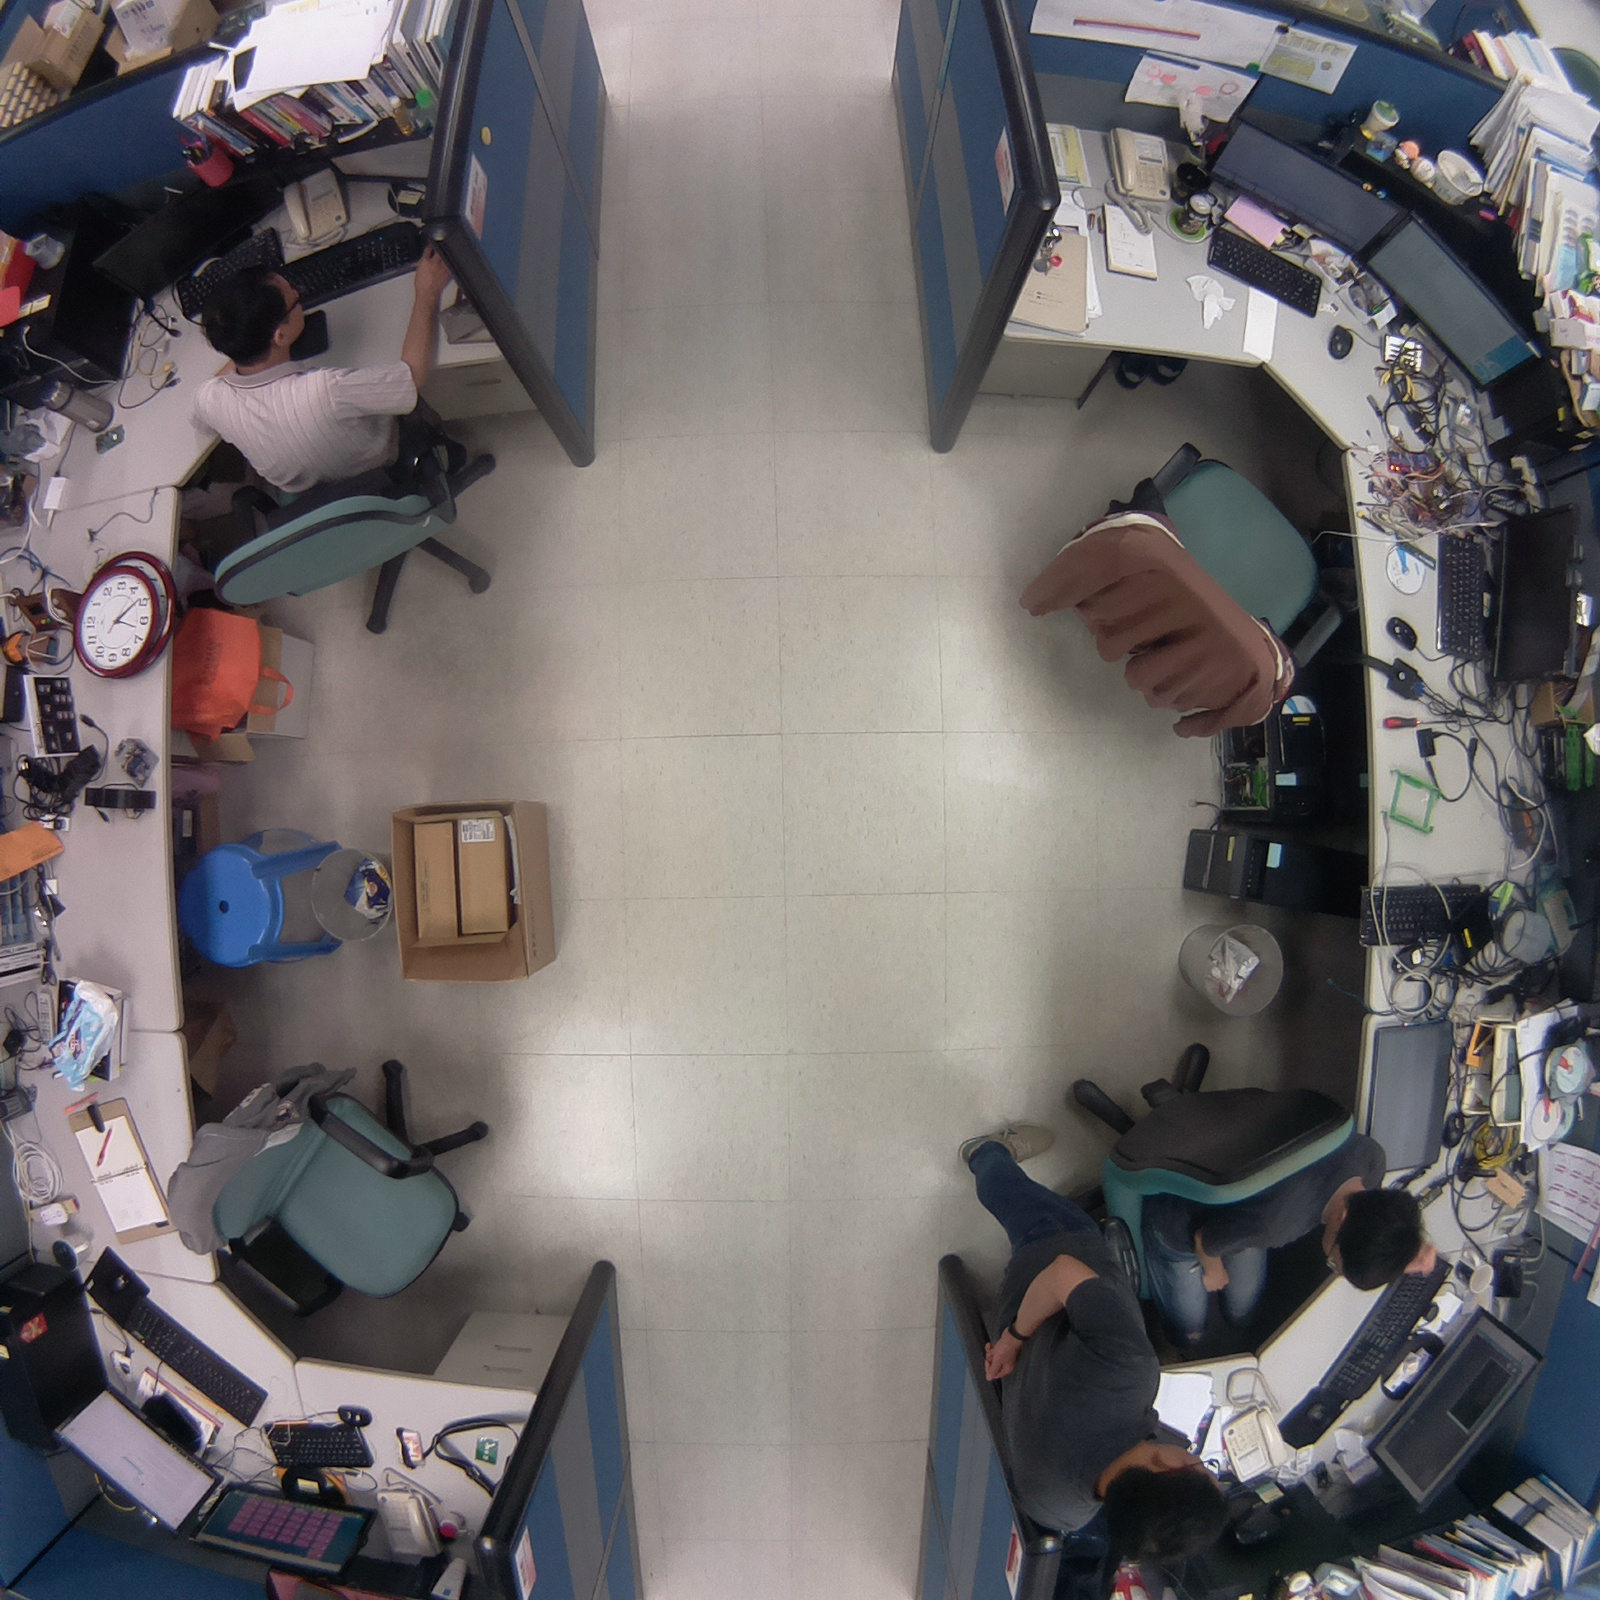chair: (1009, 417, 1355, 758), (155, 1040, 509, 1317)
head: (1099, 1445, 1237, 1571), (1317, 1176, 1427, 1296), (192, 257, 313, 351)
sitting: (170, 237, 509, 655), (1055, 1032, 1437, 1344)
standing: (935, 1101, 1245, 1600)
